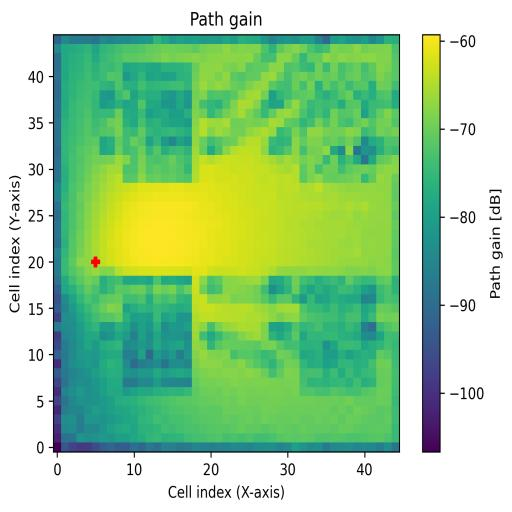Concrete: (299, 61, 377, 182)
Glass: (121, 62, 193, 182)
Metal: (300, 275, 377, 387)
Wood: (122, 276, 192, 388)
